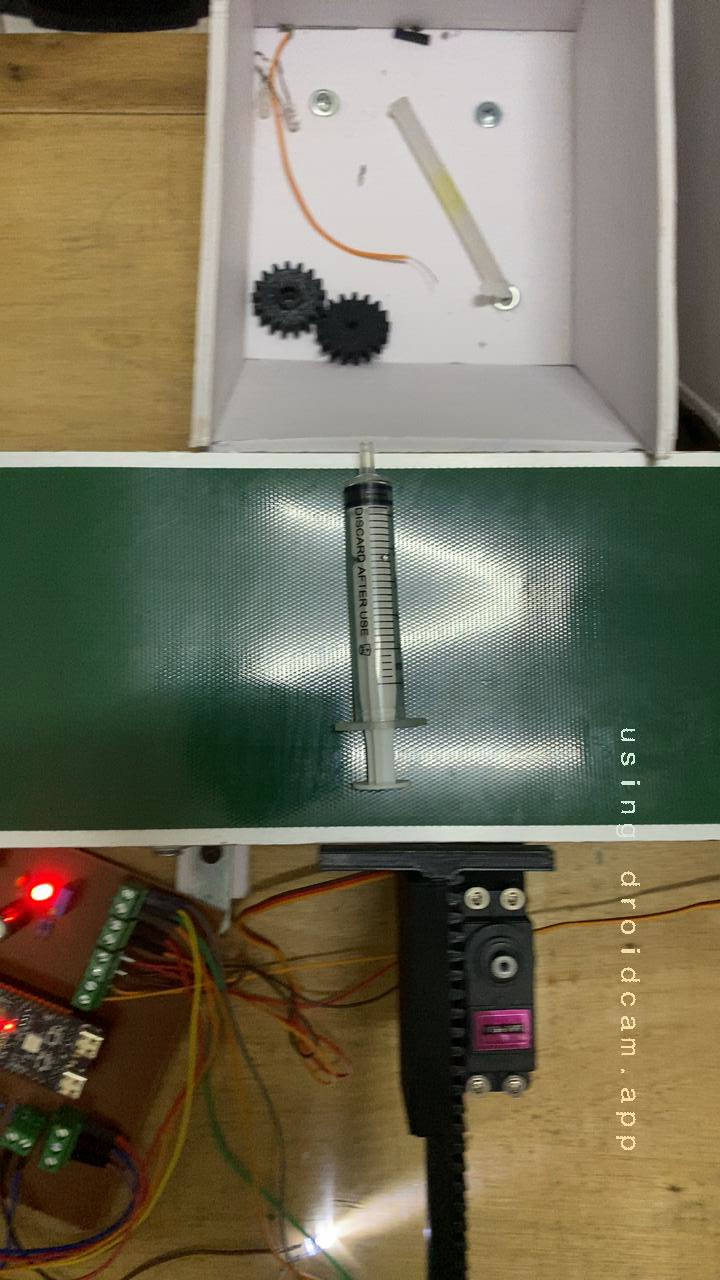syringe: (314, 458, 439, 804)
